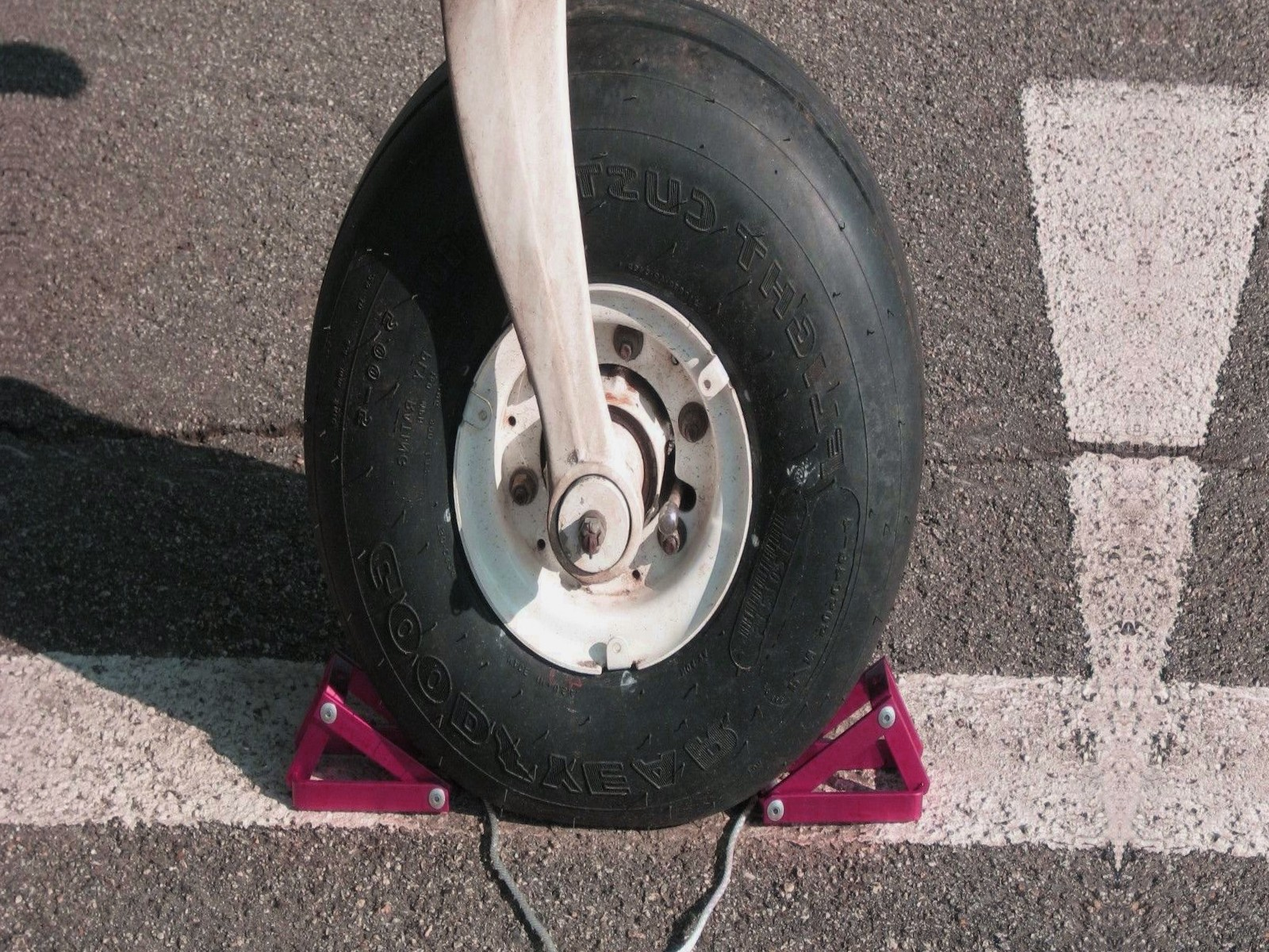chock: (758, 651, 941, 832), (281, 654, 459, 817)
wheel: (307, 0, 942, 822)
